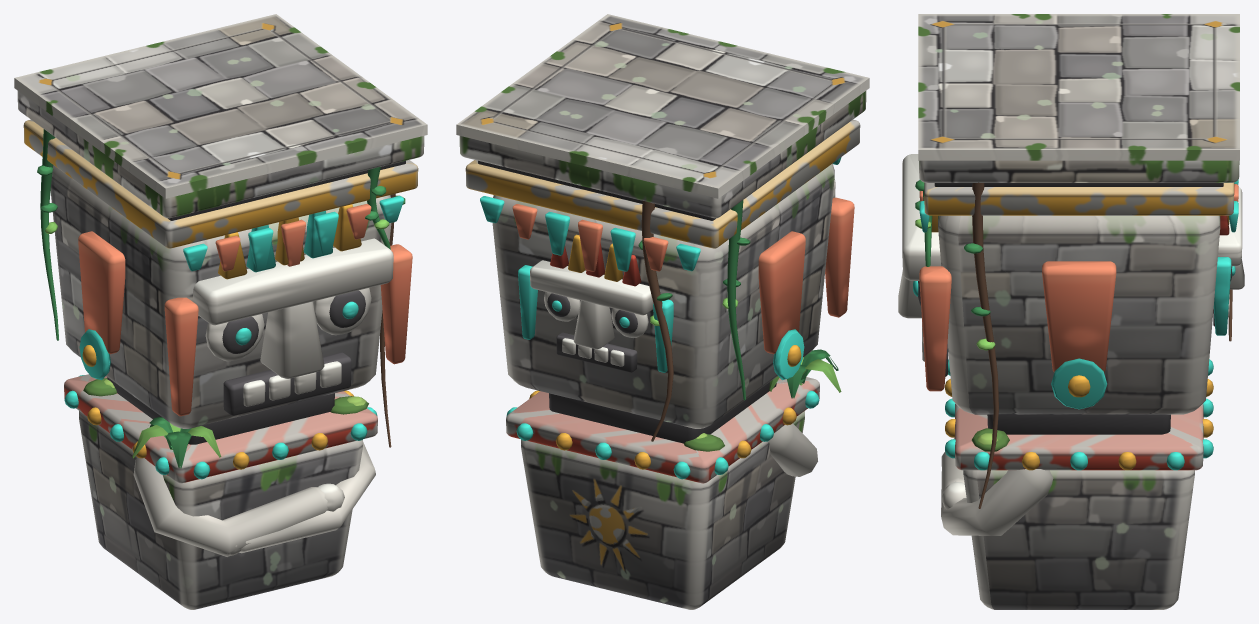
The model's file is tower_head.glb.
The picture shows the model from 3 angles, left to right: view 1: azimuth 30°, elevation 25°; view 2: azimuth 150°, elevation 25°; view 3: azimuth 270°, elevation 25°; orthographic projection. The views are drawn at different scales.
Visible parts, largest first — view 1: 000_add, 018_add, 087_add, 003_add, 066_add, 019_add, 001_add, 088_add, 059_add, 020_add, 024_add, 065_add (+19 smaller); view 2: 000_add, 018_add, 087_add, 003_add, 066_add, 001_add, 059_add, 039_add, 065_add, 024_add, 088_add, 100_add (+12 smaller); view 3: 000_add, 018_add, 087_add, 003_add, 066_add, 001_add, 062_add, 090_add, 065_add, 028_add, 019_add, 092_add (+8 smaller).
Boxes of the visible parts, box(x1,y1,x2,y2) form: 000_add: box(14, 14, 427, 198); 018_add: box(50, 165, 391, 428); 087_add: box(79, 411, 362, 609); 003_add: box(23, 119, 418, 248); 066_add: box(64, 374, 377, 483); 019_add: box(193, 238, 393, 325); 001_add: box(17, 91, 424, 218); 088_add: box(133, 456, 327, 556); 059_add: box(78, 231, 125, 354); 020_add: box(260, 301, 324, 378); 024_add: box(164, 297, 198, 416); 065_add: box(107, 377, 334, 444); 000_add: box(456, 14, 869, 198); 018_add: box(492, 163, 834, 428); 087_add: box(521, 411, 804, 609); 003_add: box(465, 119, 860, 248); 066_add: box(506, 377, 819, 483); 001_add: box(459, 91, 866, 218); 059_add: box(758, 231, 805, 354); 039_add: box(530, 260, 653, 315); 065_add: box(549, 382, 776, 443); 024_add: box(825, 197, 854, 317); 088_add: box(769, 423, 817, 476); 100_add: box(641, 201, 673, 441); 000_add: box(918, 14, 1239, 160); 018_add: box(938, 215, 1220, 414); 087_add: box(963, 470, 1194, 609); 003_add: box(924, 182, 1234, 215); 066_add: box(955, 403, 1203, 470); 001_add: box(919, 160, 1239, 182); 062_add: box(1042, 261, 1116, 372); 090_add: box(941, 469, 1053, 535); 065_add: box(987, 414, 1170, 434); 028_add: box(919, 266, 951, 391); 019_add: box(902, 154, 941, 280); 092_add: box(972, 182, 998, 508).
Size of the model in its own units: 8.33 by 13.5 by 8.62.
1 material, 1 textured.
